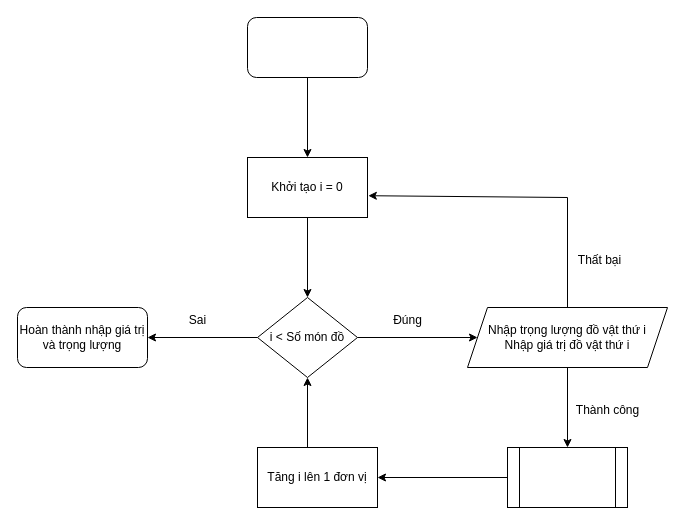
Some shapes in this 685 by 525 pixel diagram are drawn without their labels. The centre of each missing label's shape, as x and y in pixels:
Nhập trọng luọng và giá trị: (x=307, y=47)
Tính đơn giá: (x=567, y=477)
